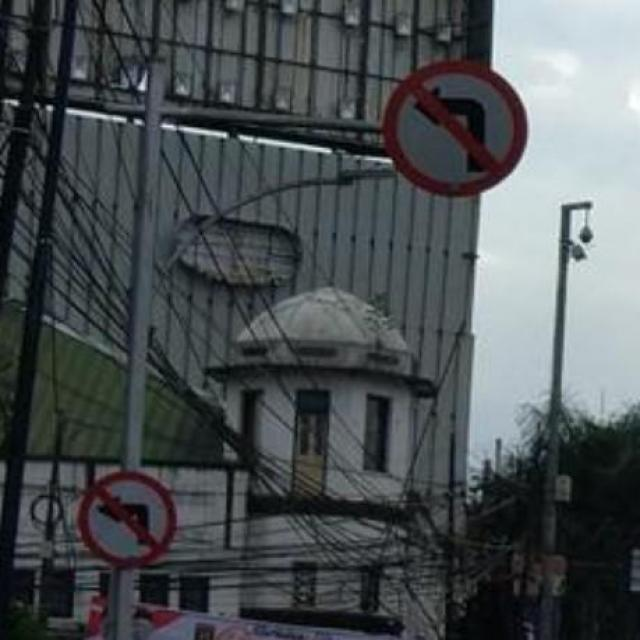traffic sign: (387, 67, 525, 196), (77, 471, 178, 564)
